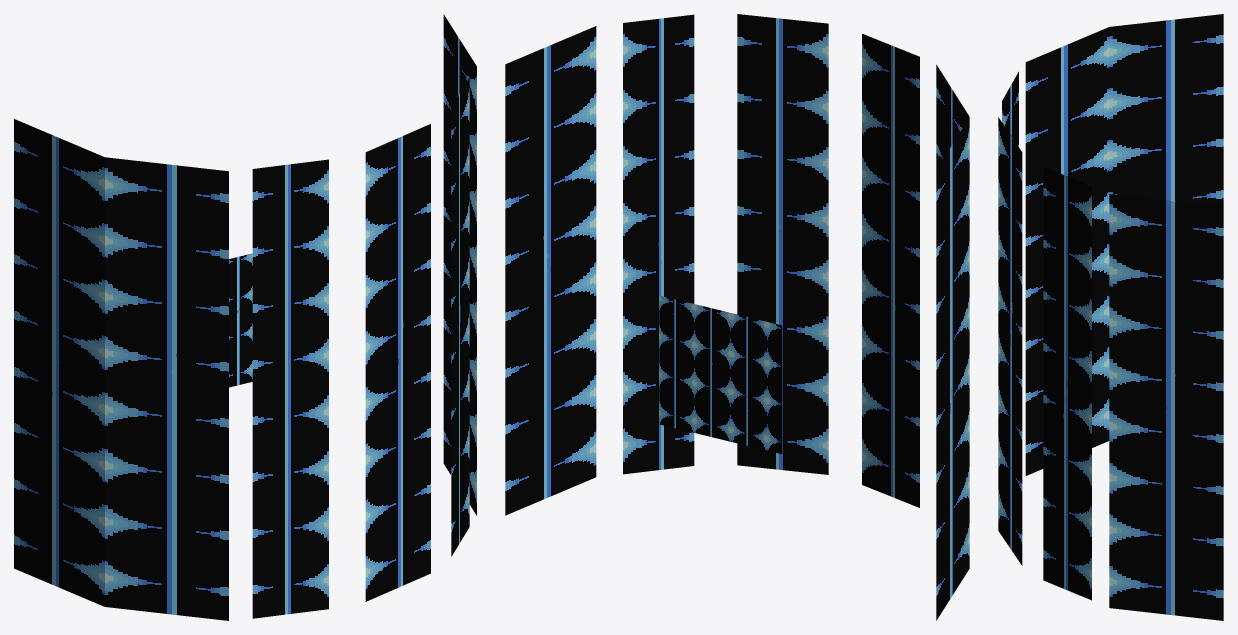
3 views of the same model, side by side, from view 1: azimuth 30°, elevation 25°; view 2: azimuth 150°, elevation 25°; view 3: azimuth 270°, elevation 25° (orthographic). The views are drawn at different scales.
Parts seen in each view (by area): view 1: ef_067; view 2: ef_067; view 3: ef_067.
Part boxes in pixels (x1,y1,x2,y2): ef_067: [14, 14, 476, 620]; ef_067: [505, 14, 969, 620]; ef_067: [998, 14, 1223, 620].
Bounding box in the file's own units: 1.4 × 1.4 × 0.6897.
Materials: 1 (1 with a texture image).
